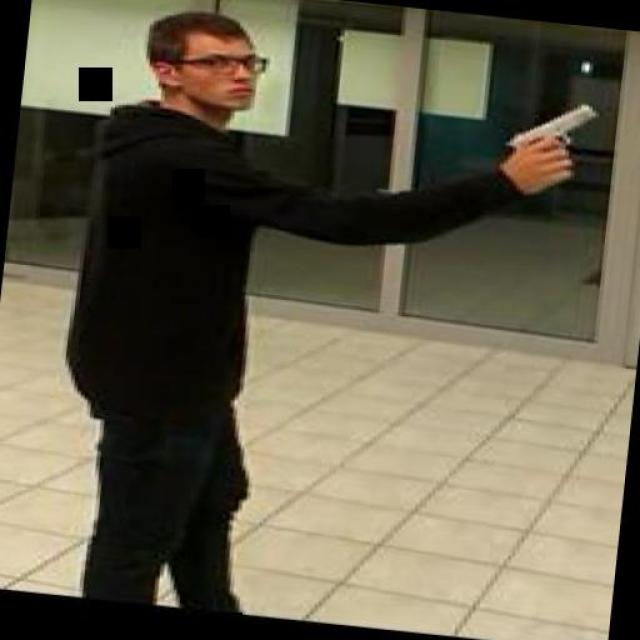gun: (496, 92, 602, 182)
